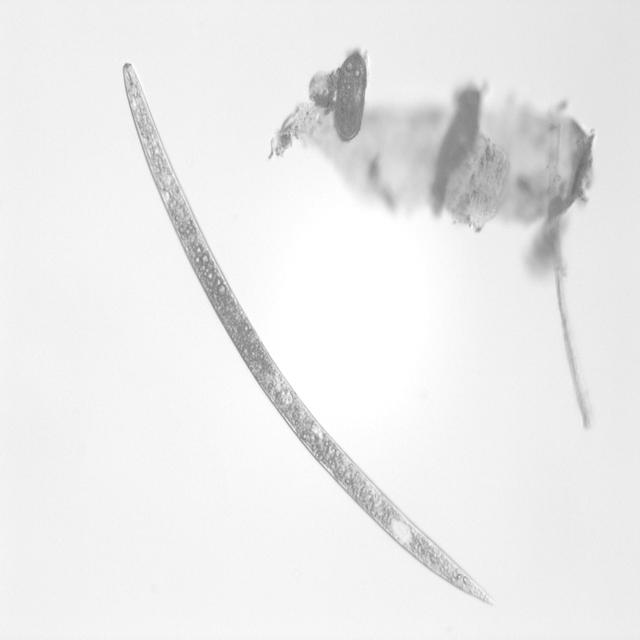Radopholus: (115, 58, 502, 609)
